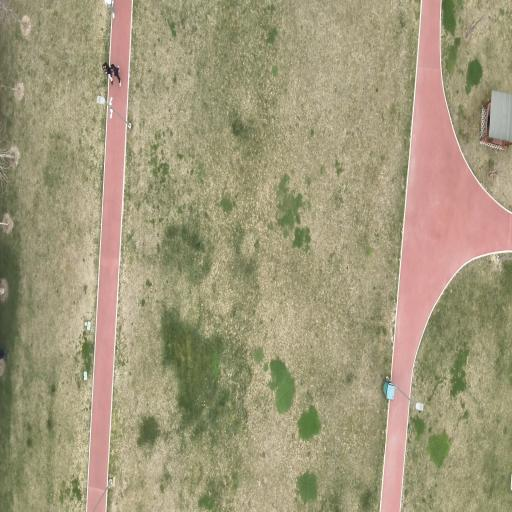person: (111, 64, 121, 87), (102, 62, 113, 82), (105, 0, 114, 18), (0, 342, 8, 359)
